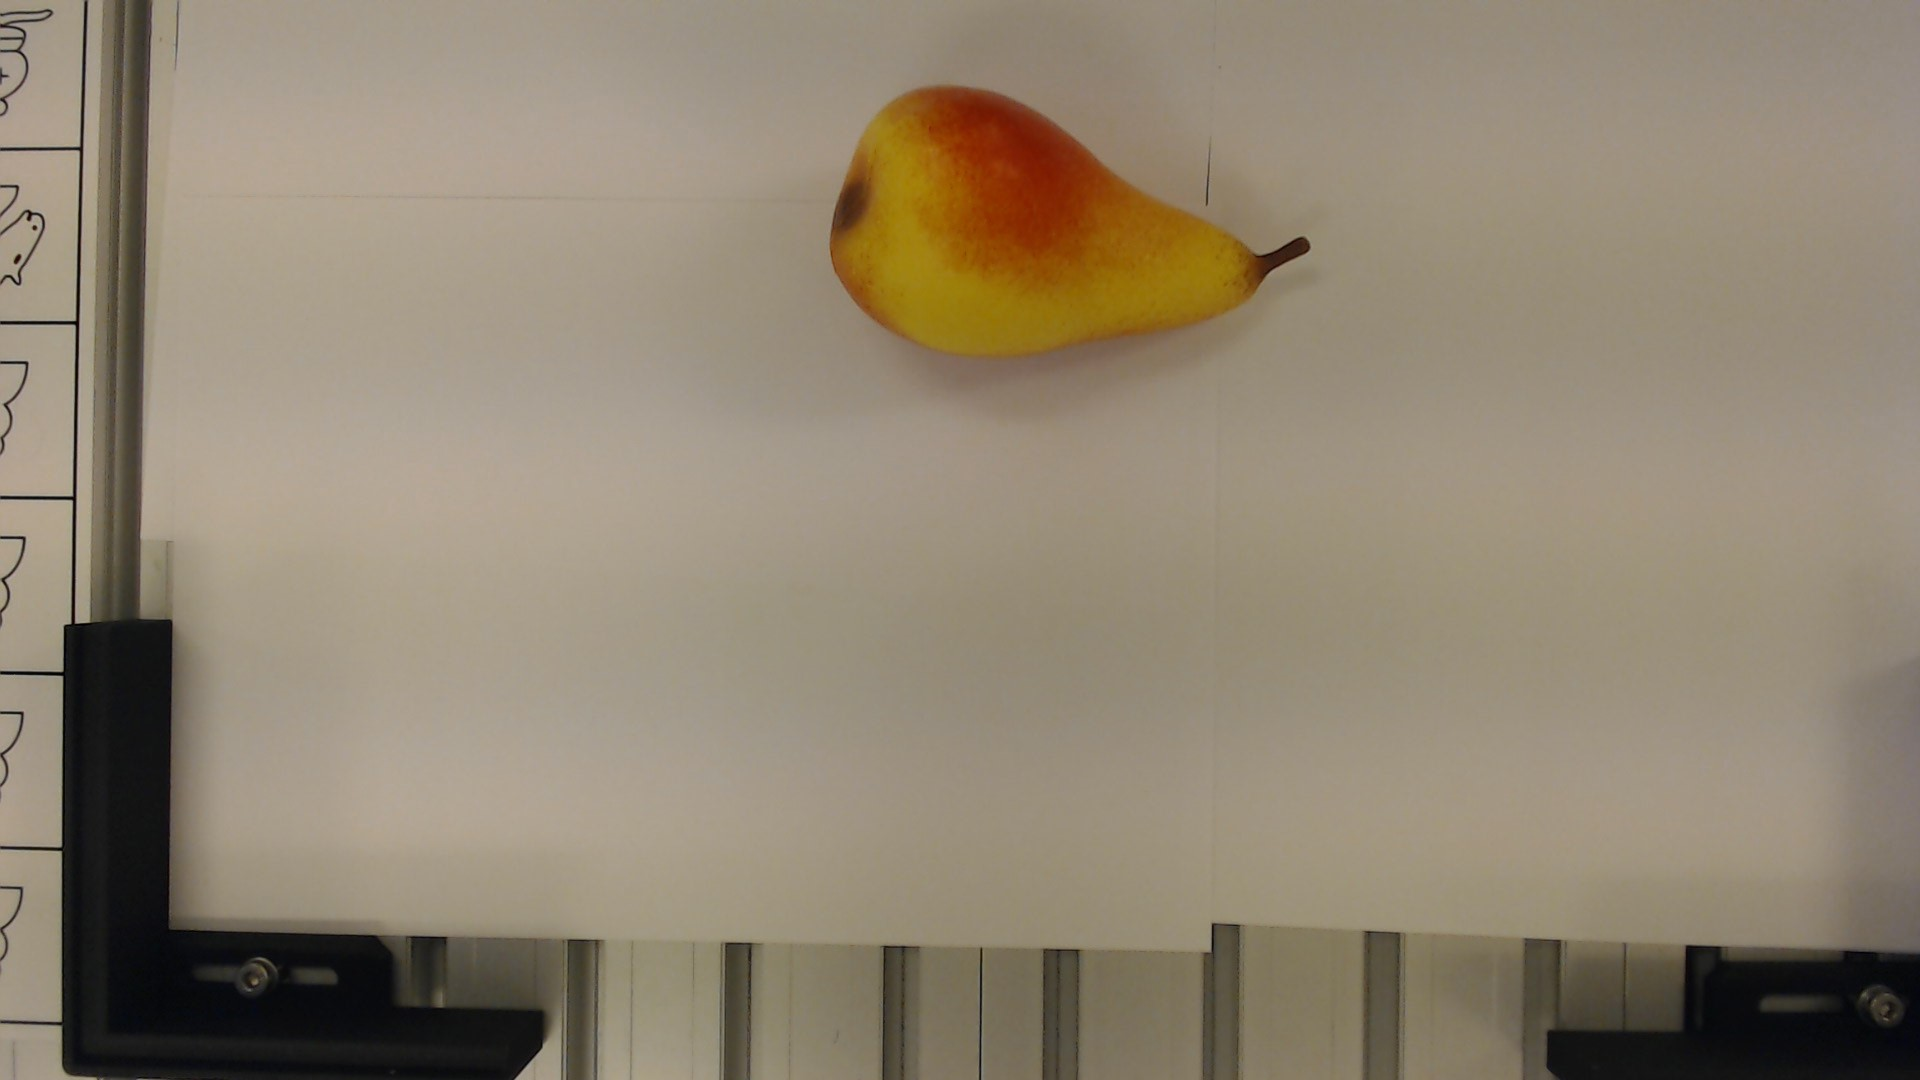Pear: (824, 84, 1315, 365)
